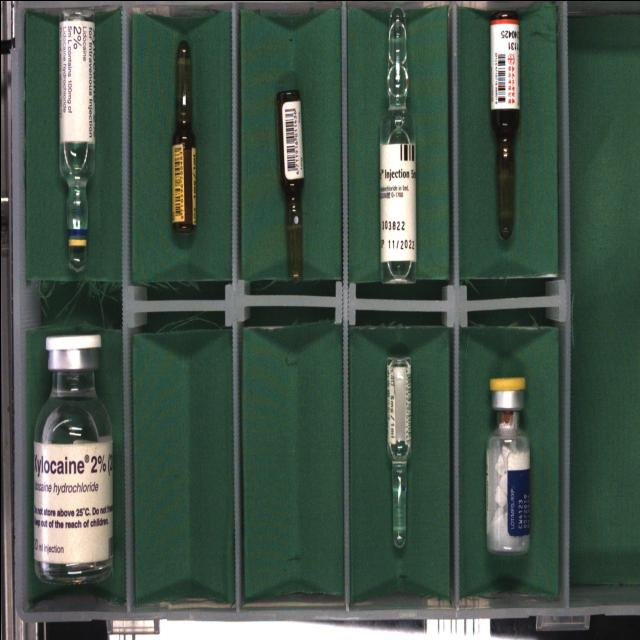Vials: (31, 332, 112, 583), (486, 376, 529, 553)
